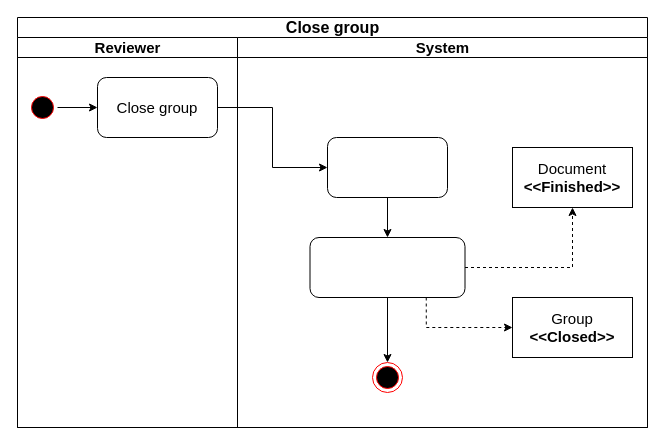
Some shapes in this 665 by 445 pixel diagram are drawn without their labels. Each missing label, with the centre of its shape:
Notify group members: pixel 387 167
Purge document history. Preserve only the final PDF version: pixel 387 267
